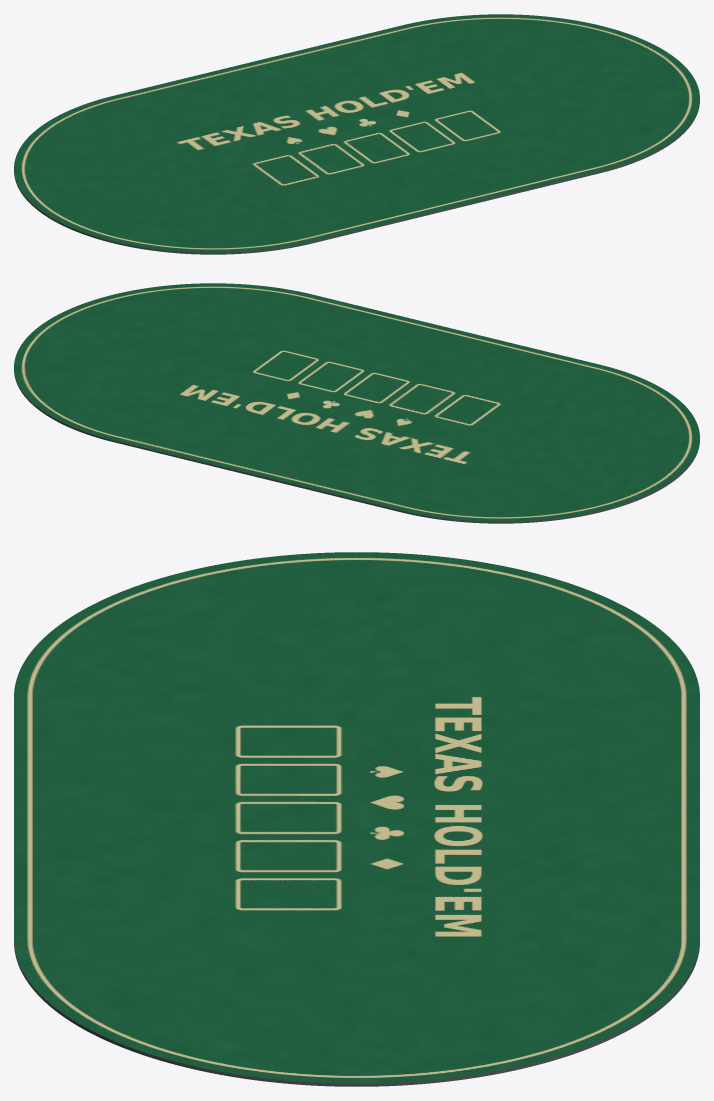
Rendered from tapis_poker_large.glb.
The picture shows the model from 3 angles, top to bottom: view 1: azimuth 30°, elevation 25°; view 2: azimuth 150°, elevation 25°; view 3: azimuth 270°, elevation 25°; orthographic projection. The views are drawn at different scales.
Visible parts, largest first — view 1: tapis_dessus, tapis_tranche_dessous; view 2: tapis_dessus, tapis_tranche_dessous; view 3: tapis_dessus, tapis_tranche_dessous.
Boxes of the visible parts, box(x1,y1,x2,y2) form: tapis_dessus: box(14, 14, 699, 252); tapis_tranche_dessous: box(14, 102, 699, 254); tapis_dessus: box(14, 283, 699, 521); tapis_tranche_dessous: box(14, 371, 699, 523); tapis_dessus: box(14, 552, 699, 1083); tapis_tranche_dessous: box(14, 943, 699, 1086).
Bounding box in the file's own units: 1.1 × 0.003 × 0.6.
2 materials, 1 textured.
